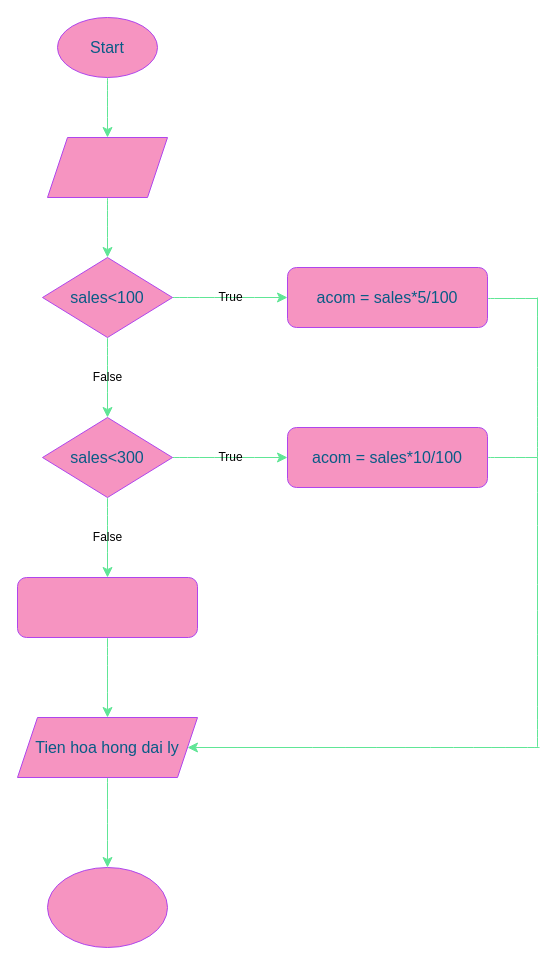
Image size: 557x965. Some labels were removed from this diagram. Each missing label, with the centre of its shape:
acom = sales*20/100: the point at 107,607
End: the point at 107,907
sales, acom: the point at 107,167
